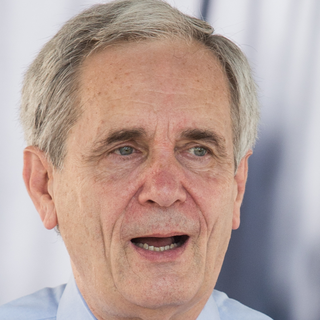eye: (171, 142, 222, 168), (99, 139, 146, 163)
